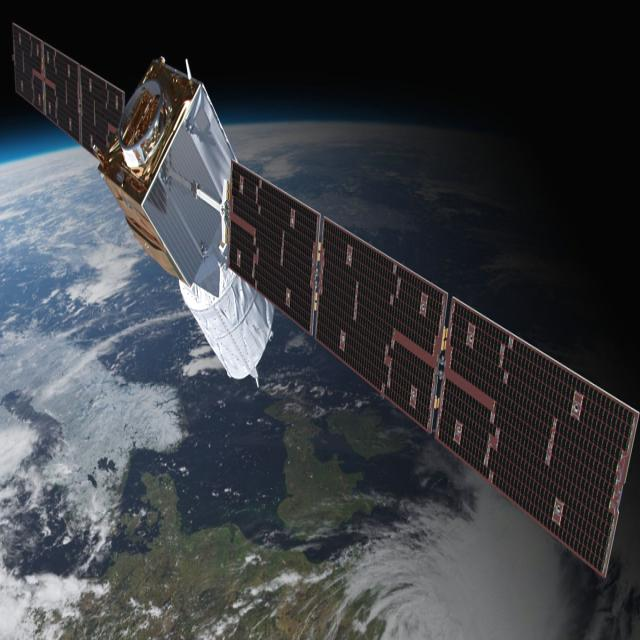medium_debris: (0, 18, 638, 581)
